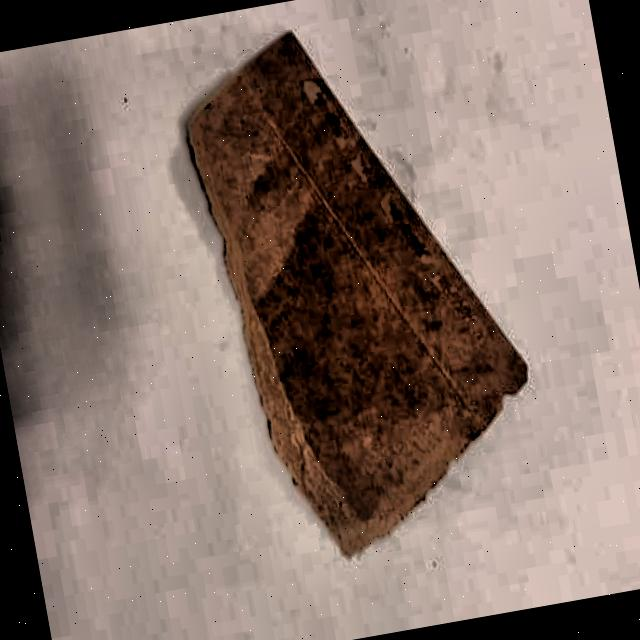paper: (164, 0, 557, 574)
